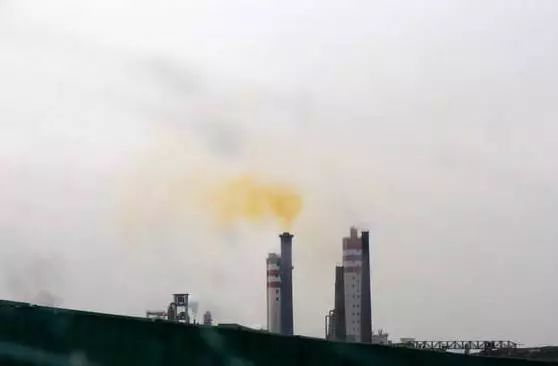dust: (188, 160, 306, 236)
